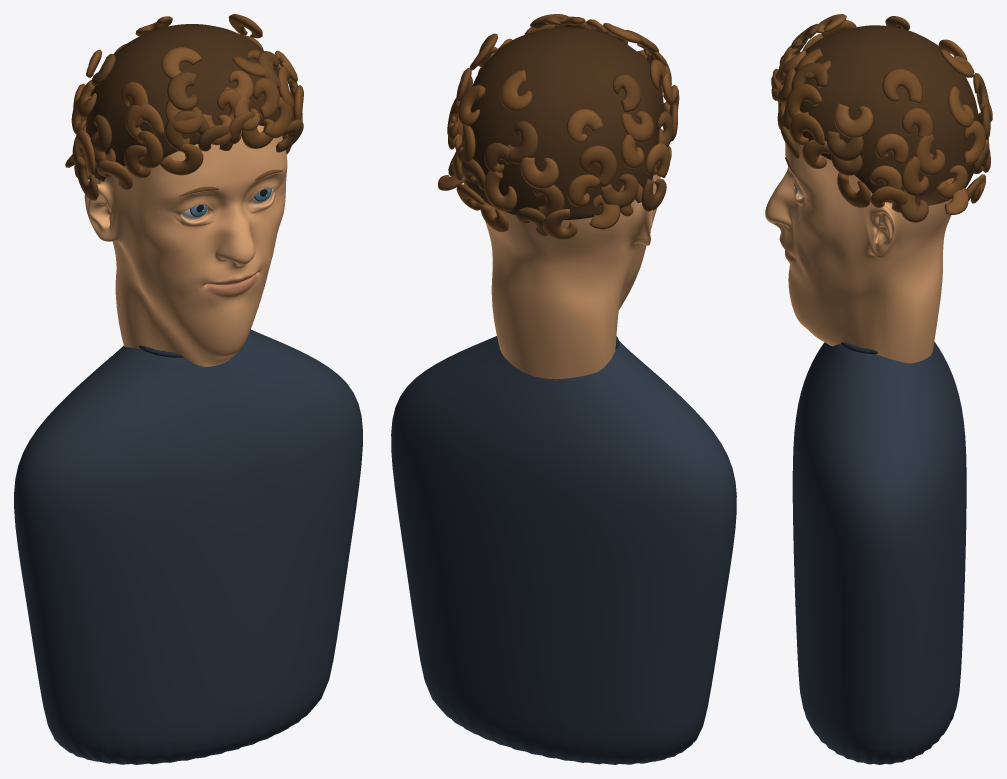
The model's file is mark-prototype.glb.
3 renders of one model, left to right at view 1: azimuth 30°, elevation 25°; view 2: azimuth 150°, elevation 25°; view 3: azimuth 270°, elevation 25°, orthographic. The views are drawn at different scales.
Parts seen in each view (by area): view 1: Standing_mark / continuous tee and sloping shoulders, Standing_mark / authored anatomical face, Mark / fitted scalp under curls, Mark / sculpted curl 58, Mark / sculpted curl 17, Mark / sculpted curl 47, Mark / sculpted curl 63, Mark / sculpted curl 36, Mark / sculpted curl 33, Mark / sculpted curl 34, Mark / sculpted curl 48, Mark / sculpted curl 15 (+3 smaller); view 2: Standing_mark / continuous tee and sloping shoulders, Mark / fitted scalp under curls, Standing_mark / authored anatomical face, Mark / sculpted curl 44, Mark / sculpted curl 43, Mark / sculpted curl 61, Mark / sculpted curl 27, Mark / sculpted curl 54, Mark / sculpted curl 55, Mark / sculpted curl 30, Mark / sculpted curl 11, Mark / sculpted curl 56 (+8 smaller); view 3: Standing_mark / continuous tee and sloping shoulders, Standing_mark / authored anatomical face, Mark / fitted scalp under curls, Mark / sculpted curl 60, Mark / sculpted curl 51, Mark / sculpted curl 21, Mark / sculpted curl 40, Mark / sculpted curl 38, Mark / sculpted curl 24, Mark / sculpted curl 39, Mark / sculpted curl 37, Mark / sculpted curl 52 (+13 smaller).
Part boxes in pixels (x1,y1,x2,y2): Standing_mark / continuous tee and sloping shoulders: [14, 329, 362, 764]; Standing_mark / authored anatomical face: [84, 125, 287, 366]; Mark / fitted scalp under curls: [86, 24, 279, 181]; Mark / sculpted curl 58: [167, 71, 197, 110]; Mark / sculpted curl 17: [160, 143, 203, 175]; Mark / sculpted curl 47: [125, 104, 163, 138]; Mark / sculpted curl 63: [161, 47, 202, 78]; Mark / sculpted curl 36: [253, 77, 279, 118]; Mark / sculpted curl 33: [137, 131, 162, 168]; Mark / sculpted curl 34: [165, 110, 209, 148]; Mark / sculpted curl 48: [165, 100, 203, 134]; Mark / sculpted curl 15: [96, 160, 132, 190]; Standing_mark / continuous tee and sloping shoulders: [391, 336, 736, 764]; Mark / fitted scalp under curls: [462, 27, 663, 219]; Standing_mark / authored anatomical face: [463, 174, 660, 379]; Mark / sculpted curl 44: [579, 145, 616, 187]; Mark / sculpted curl 43: [520, 157, 558, 188]; Mark / sculpted curl 61: [500, 70, 532, 111]; Mark / sculpted curl 27: [484, 170, 516, 211]; Mark / sculpted curl 54: [507, 121, 537, 163]; Mark / sculpted curl 55: [566, 109, 603, 143]; Mark / sculpted curl 30: [601, 174, 638, 208]; Mark / sculpted curl 11: [542, 209, 577, 239]; Mark / sculpted curl 56: [621, 111, 653, 142]; Standing_mark / continuous tee and sloping shoulders: [792, 342, 966, 764]; Standing_mark / authored anatomical face: [765, 130, 951, 363]; Mark / fitted scalp under curls: [792, 25, 978, 205]; Mark / sculpted curl 60: [882, 68, 922, 103]; Mark / sculpted curl 51: [834, 103, 873, 138]; Mark / sculpted curl 21: [789, 113, 824, 145]; Mark / sculpted curl 40: [915, 134, 945, 175]; Mark / sculpted curl 38: [826, 130, 863, 160]; Mark / sculpted curl 24: [901, 153, 934, 195]; Mark / sculpted curl 39: [875, 133, 908, 164]; Mark / sculpted curl 37: [786, 83, 822, 119]; Mark / sculpted curl 52: [902, 107, 933, 138].
Size of the model in its own units: 0.4449 by 0.8999 by 0.267.
